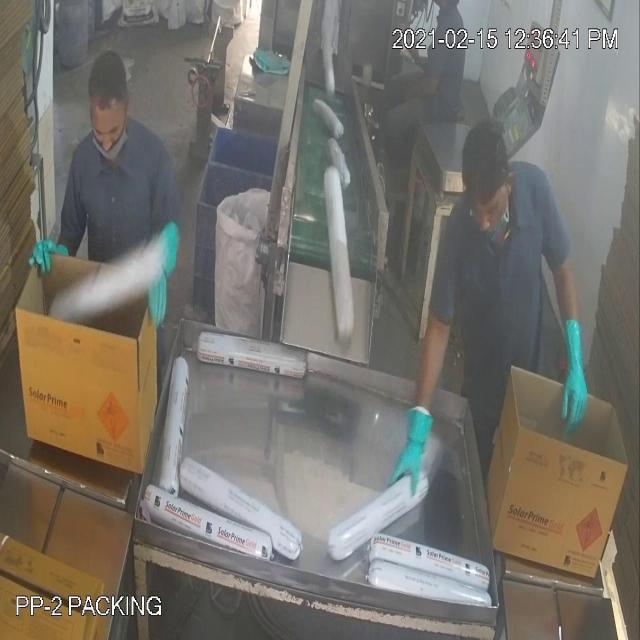Gloves: (42, 48, 572, 446)
